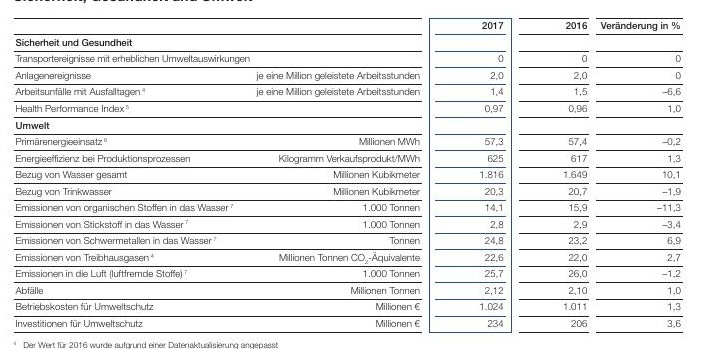table: (0, 0, 701, 349)
